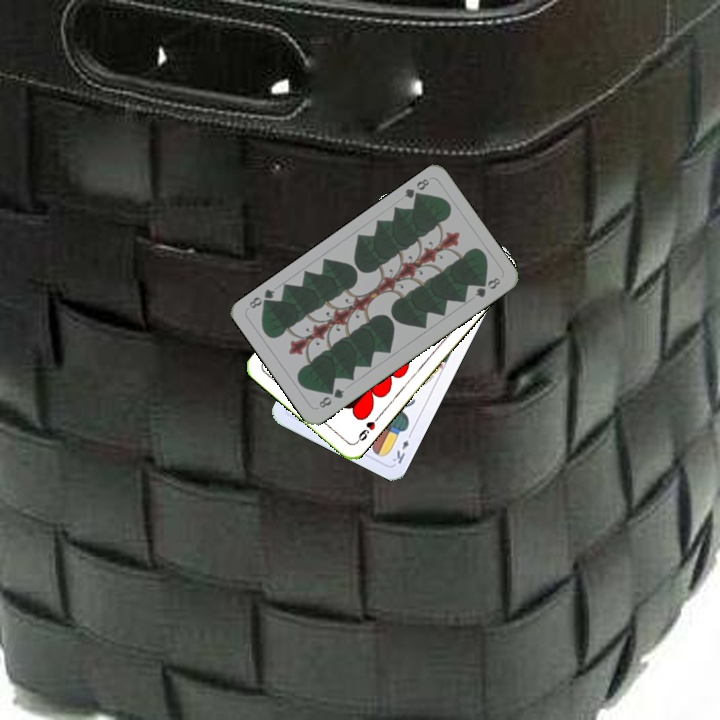EK: (388, 428, 415, 466)
G8: (400, 174, 432, 204), (315, 384, 347, 411)
H9: (351, 412, 382, 446)
